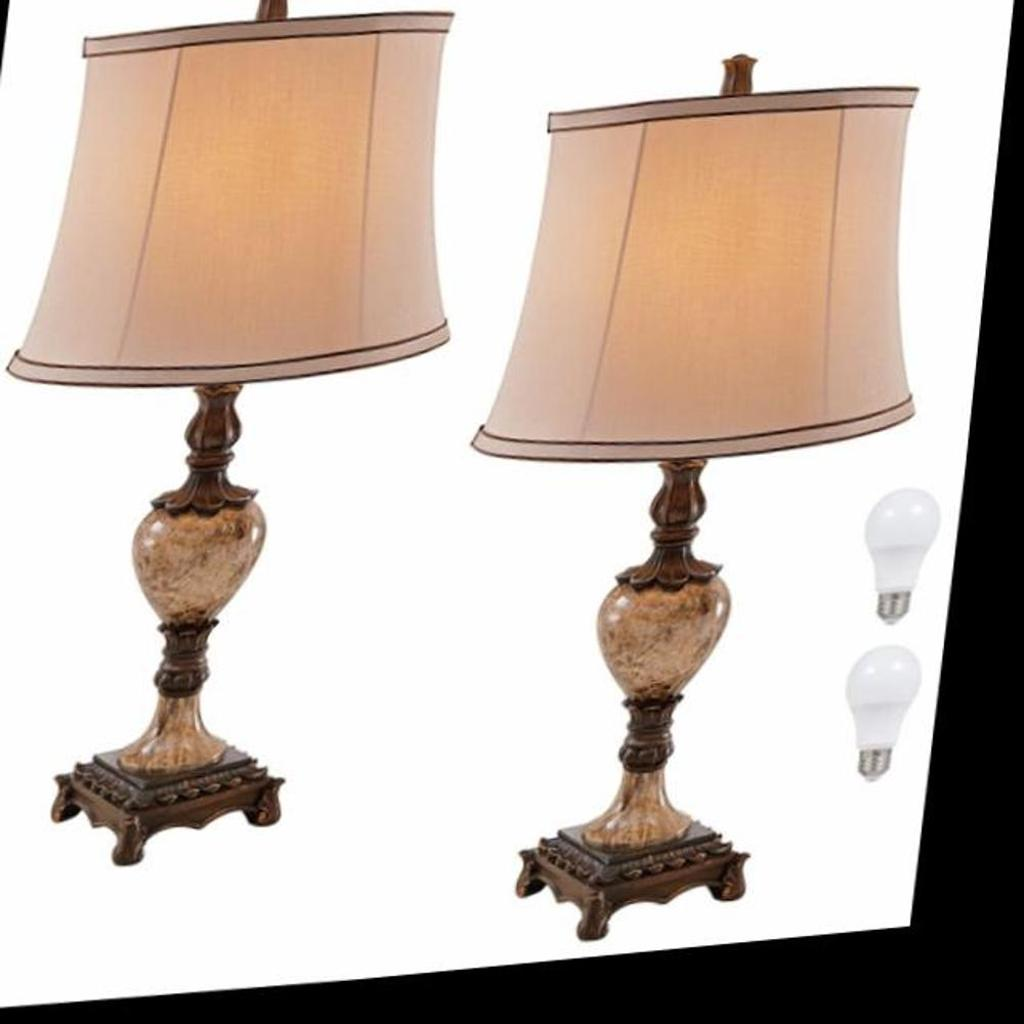shelf: (0, 0, 512, 973), (436, 0, 930, 977)
